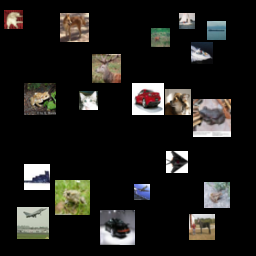airplane: (17, 207, 49, 239), (24, 164, 50, 190), (166, 151, 188, 173), (134, 184, 150, 200)
automobile: (100, 210, 135, 245), (132, 83, 164, 115)
cat: (79, 91, 98, 110), (4, 10, 23, 29)
deer: (92, 54, 121, 83), (151, 28, 170, 47)
dog: (60, 13, 89, 42), (165, 89, 191, 115)
frog: (193, 99, 231, 137), (55, 180, 90, 215), (24, 83, 56, 115), (204, 182, 230, 208)
ship: (191, 42, 213, 64), (207, 21, 226, 40), (179, 13, 195, 29)
